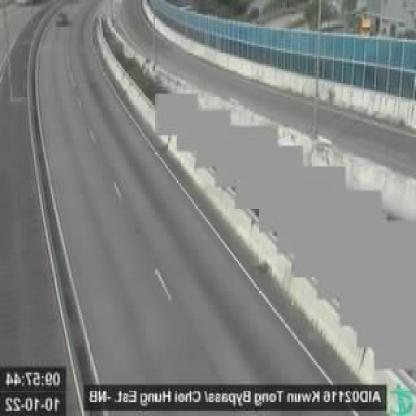Car: (54, 9, 68, 25)
